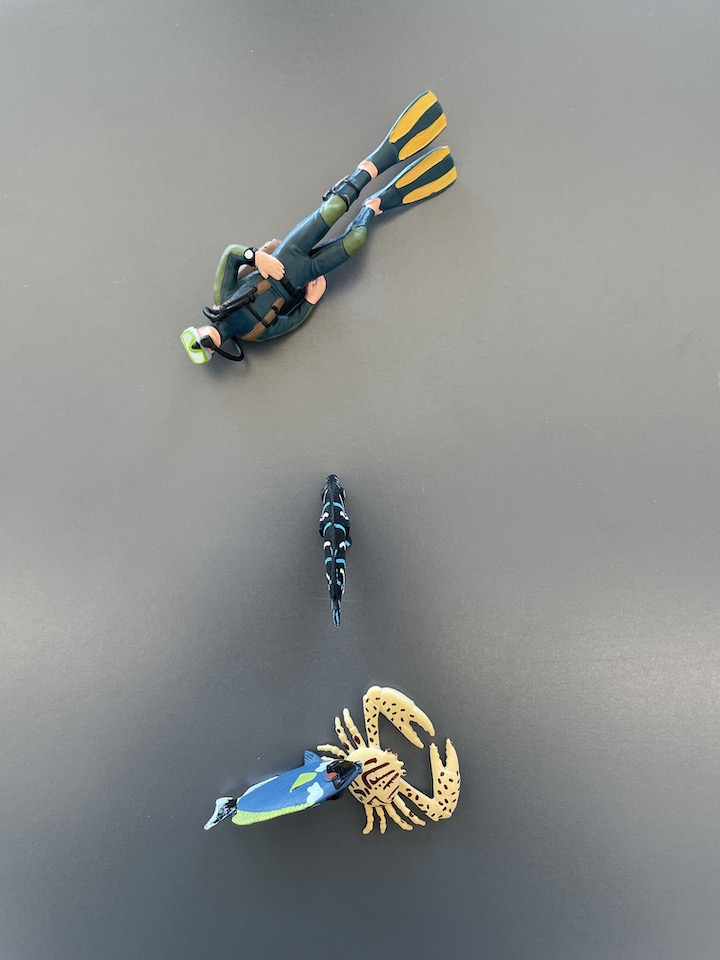crab: (317, 684, 469, 834)
diver: (176, 88, 459, 375)
fish: (202, 752, 369, 836), (311, 472, 354, 625)
